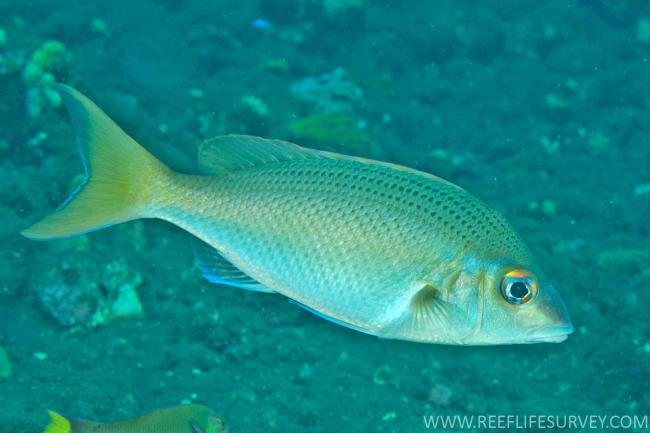fish: (19, 82, 575, 346)
